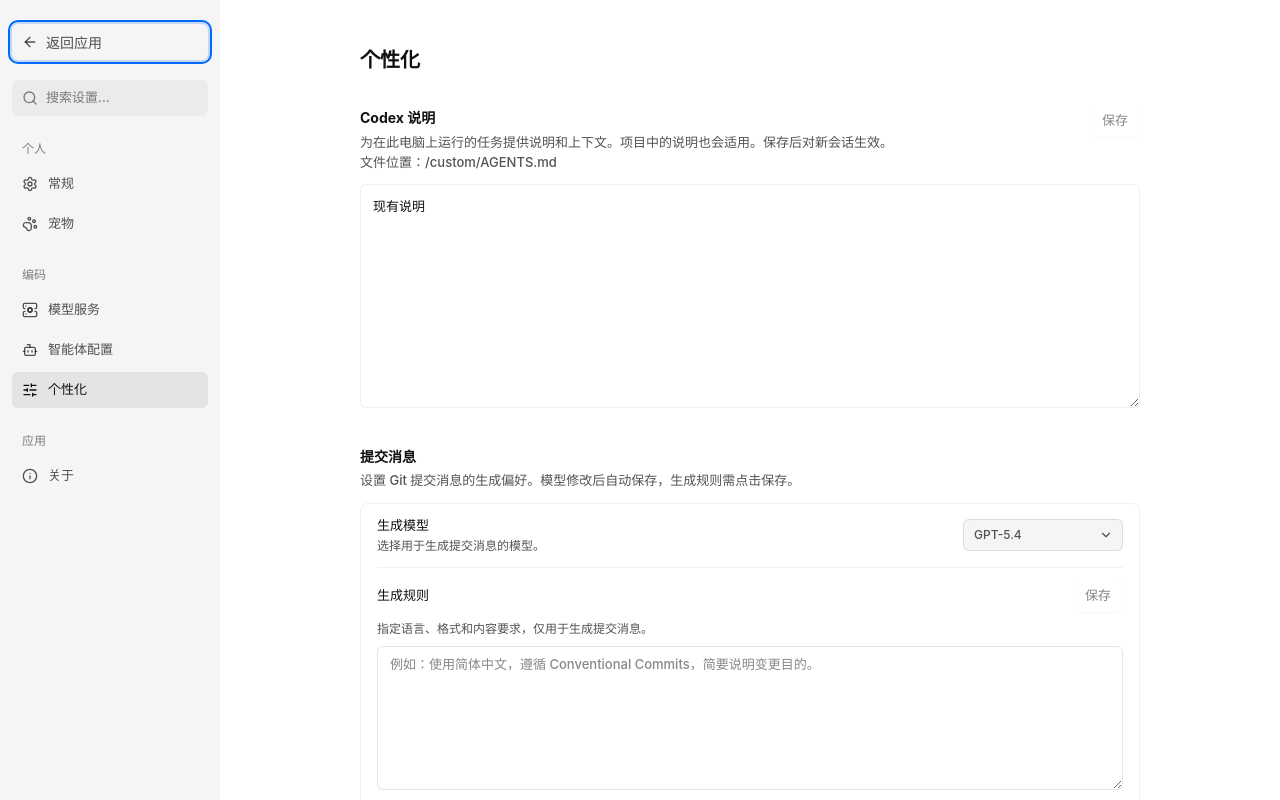
Test case: GlobalSettingsPage › preserves generation rules after save failure and allows retry
Check: the heading "个性化" is shown, box [360, 48, 420, 72]
Type "保留规则草稿" into the text box named "提交提示词" at (750, 718), box [377, 646, 1123, 790]
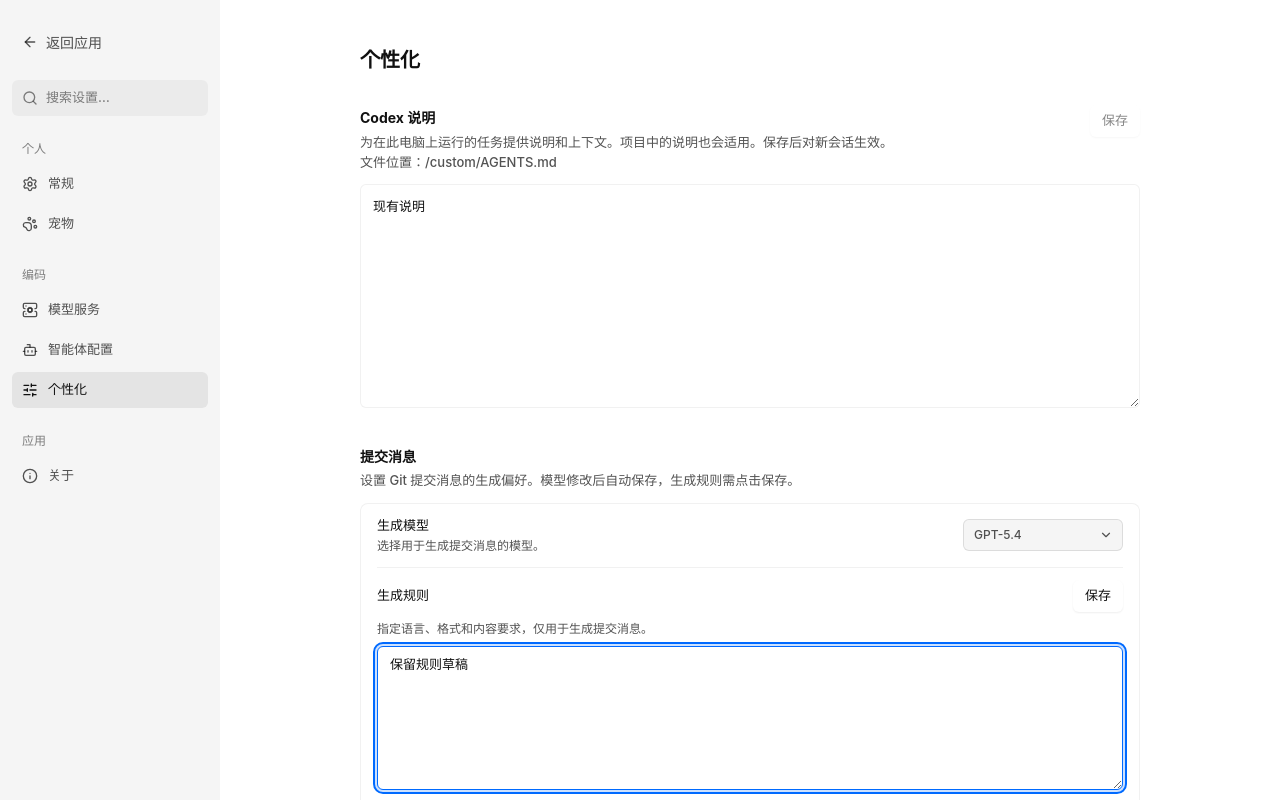
Click the 2nd button "保存" at (1098, 596), box [1073, 580, 1123, 612]
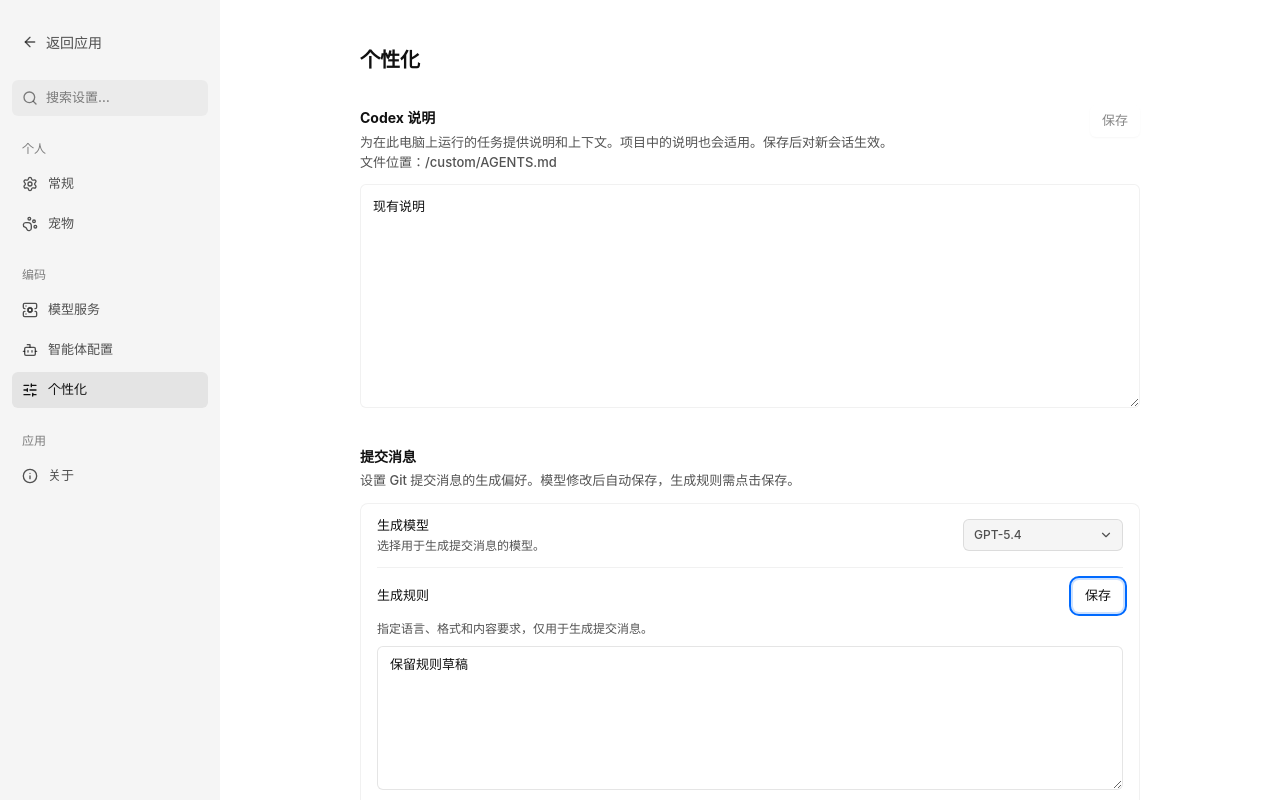
Click the 2nd button "保存" at (1098, 596), box [1073, 580, 1123, 612]
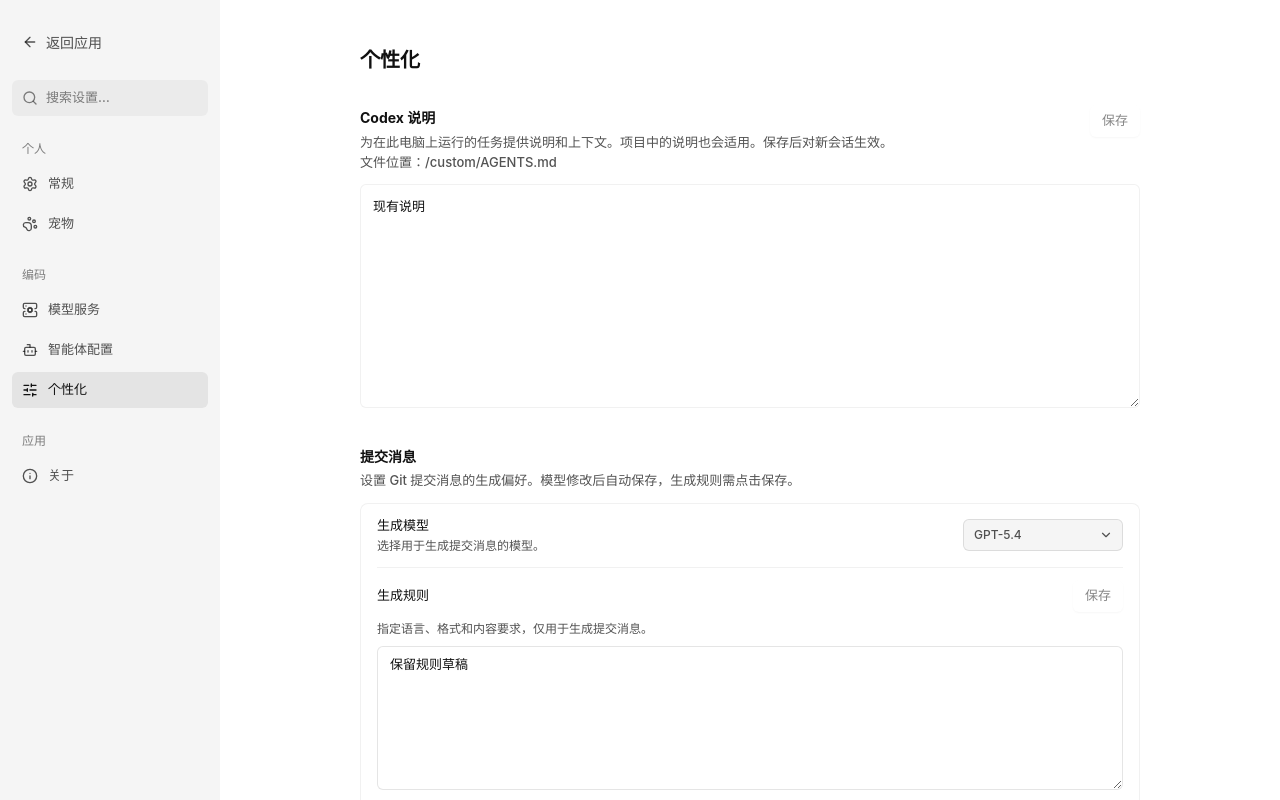
Check: the 2nd button "保存" is disabled, box [1073, 580, 1123, 612]
